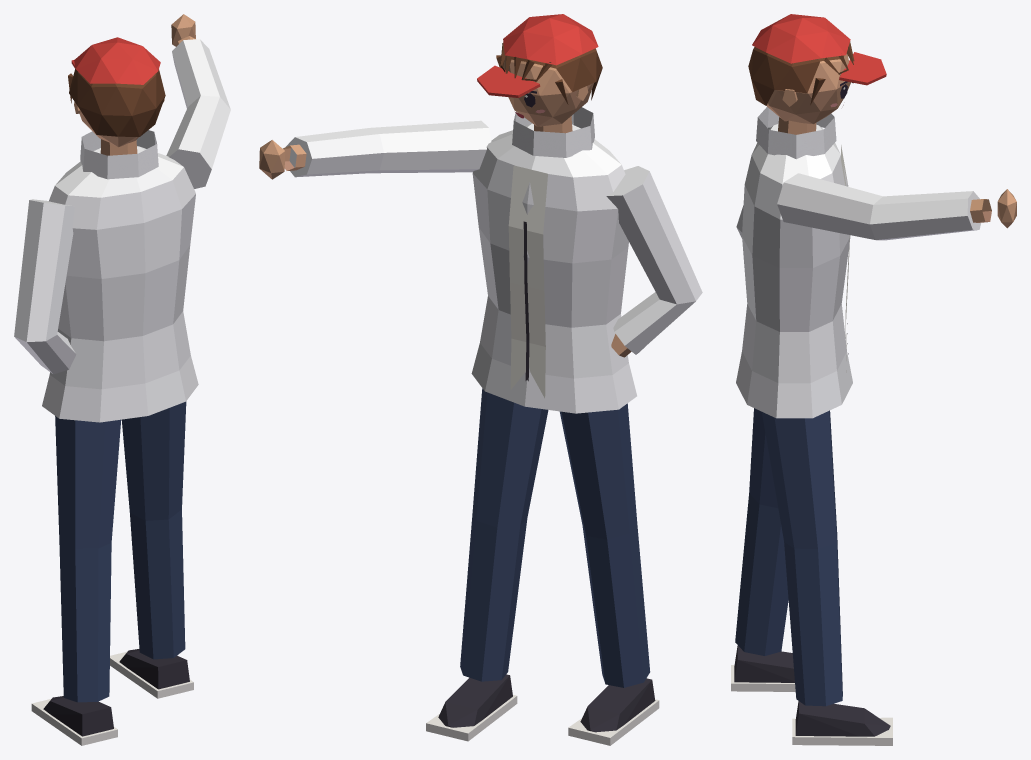
File: spectator_i.glb
3 renders of one model, left to right at view 1: azimuth 30°, elevation 25°; view 2: azimuth 150°, elevation 25°; view 3: azimuth 270°, elevation 25°, orthographic. The views are drawn at different scales.
Visible parts, largest first — view 1: spectator_i; view 2: spectator_i; view 3: spectator_i.
Part boxes in pixels (x1,y1,x2,y2): spectator_i: [14, 14, 230, 745]; spectator_i: [259, 14, 702, 745]; spectator_i: [731, 14, 1016, 745].
Bounding box in the file's own units: 0.8186 × 1.74 × 0.6533.
